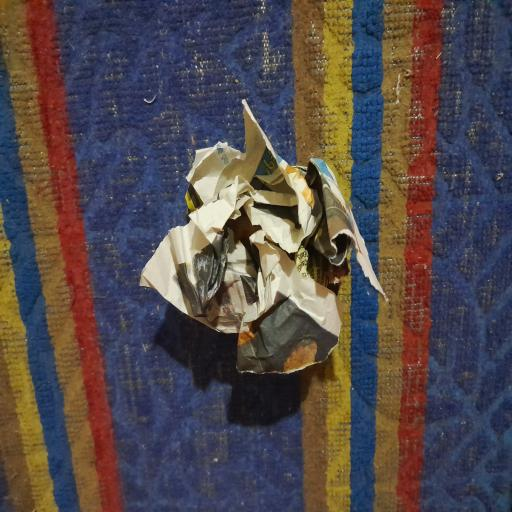waste: (110, 99, 398, 396)
